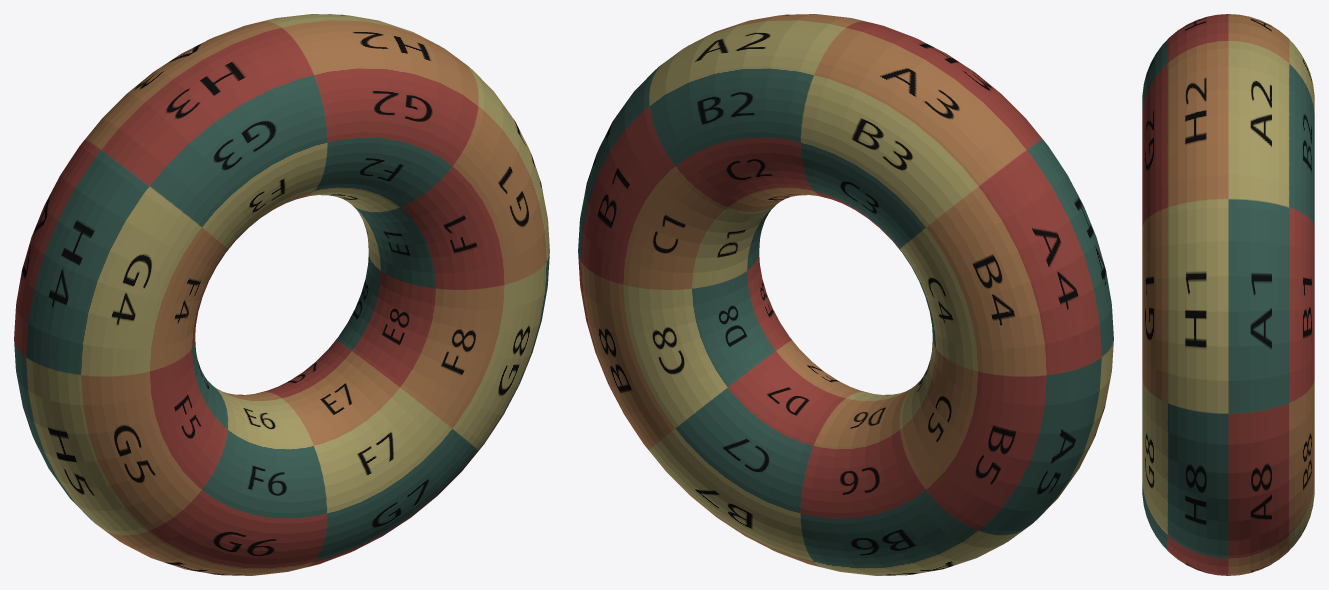
Rendered from texture_torus_R18_r29.glb.
3 renders of one model, left to right at view 1: azimuth 30°, elevation 25°; view 2: azimuth 150°, elevation 25°; view 3: azimuth 270°, elevation 25°, orthographic. The views are drawn at different scales.
Visible parts, largest first — view 1: world; view 2: world; view 3: world.
Boxes of the visible parts, x1,y1,x2,y2 form: world: [14, 14, 549, 575]; world: [578, 14, 1113, 575]; world: [1142, 14, 1314, 575].
Size of the model in its own units: 31.73 by 31.67 by 9.71.
Materials: 1 (1 with a texture image).
